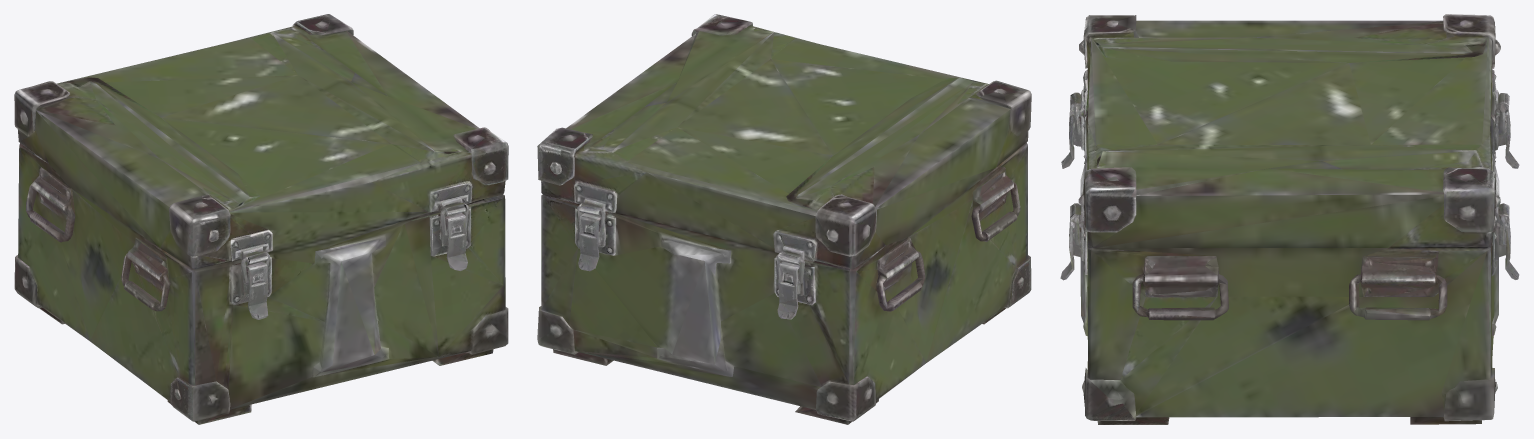
The model's file is crate_steel.glb.
3 views of the same model, side by side, from view 1: azimuth 30°, elevation 25°; view 2: azimuth 150°, elevation 25°; view 3: azimuth 270°, elevation 25° (orthographic). The views are drawn at different scales.
Parts seen in each view (by area): view 1: Mesh_0; view 2: Mesh_0; view 3: Mesh_0.
Boxes of the visible parts, x1=… form: Mesh_0: x1=14, y1=14, x2=508, y2=424; Mesh_0: x1=537, y1=14, x2=1031, y2=424; Mesh_0: x1=1060, y1=14, x2=1519, y2=424.
Size of the model in its own units: 1.87 by 1.12 by 1.9.
Materials: 1 (1 with a texture image).
